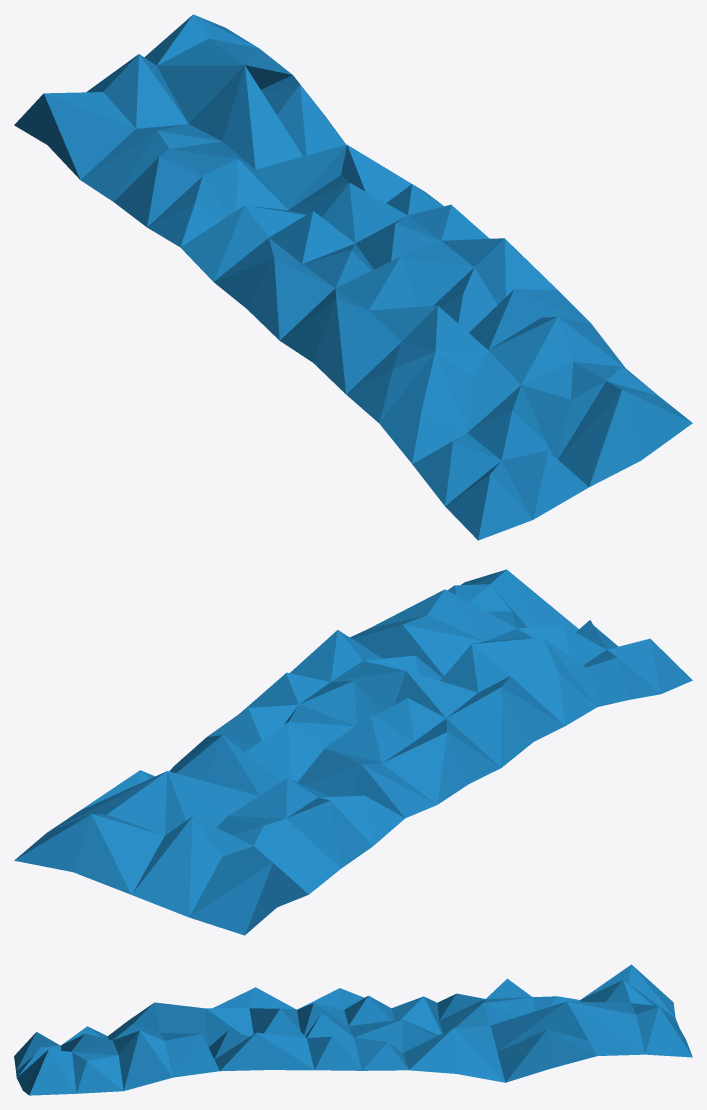
File: flusspoly.FBX
3 views of the same model, one above another, from view 1: azimuth 30°, elevation 25°; view 2: azimuth 150°, elevation 25°; view 3: azimuth 270°, elevation 25° (orthographic). The views are drawn at different scales.
Visible parts, largest first — view 1: Ebene001; view 2: Ebene001; view 3: Ebene001.
Boxes of the visible parts, x1,y1,x2,y2 form: Ebene001: [14, 14, 692, 540]; Ebene001: [14, 569, 692, 935]; Ebene001: [14, 964, 692, 1095].
Bounding box in the file's own units: 39.11 × 25.34 × 143.
